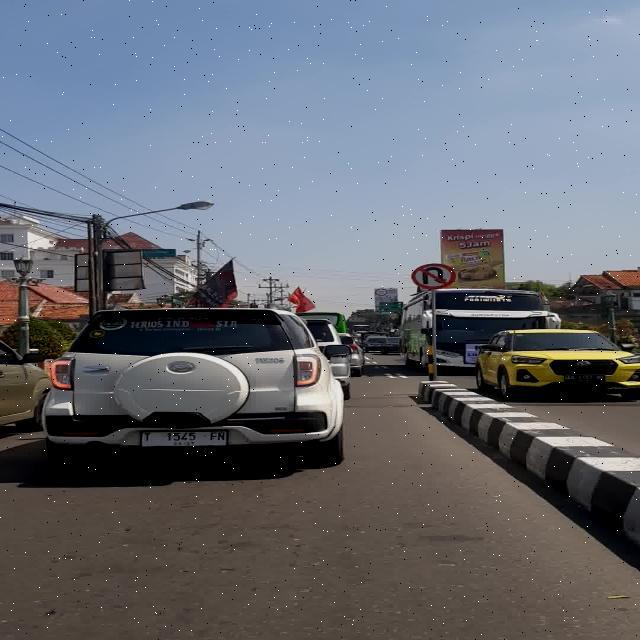Dilarang Putar Balik: (411, 264, 456, 290)
